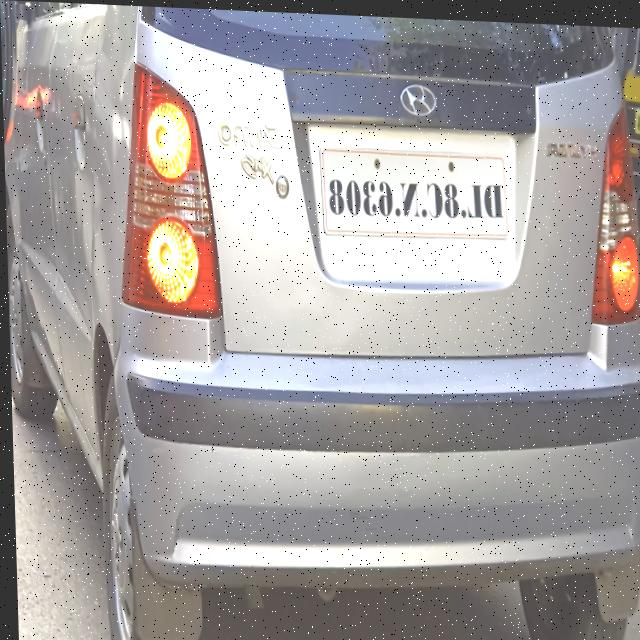plate: (319, 141, 509, 239)
